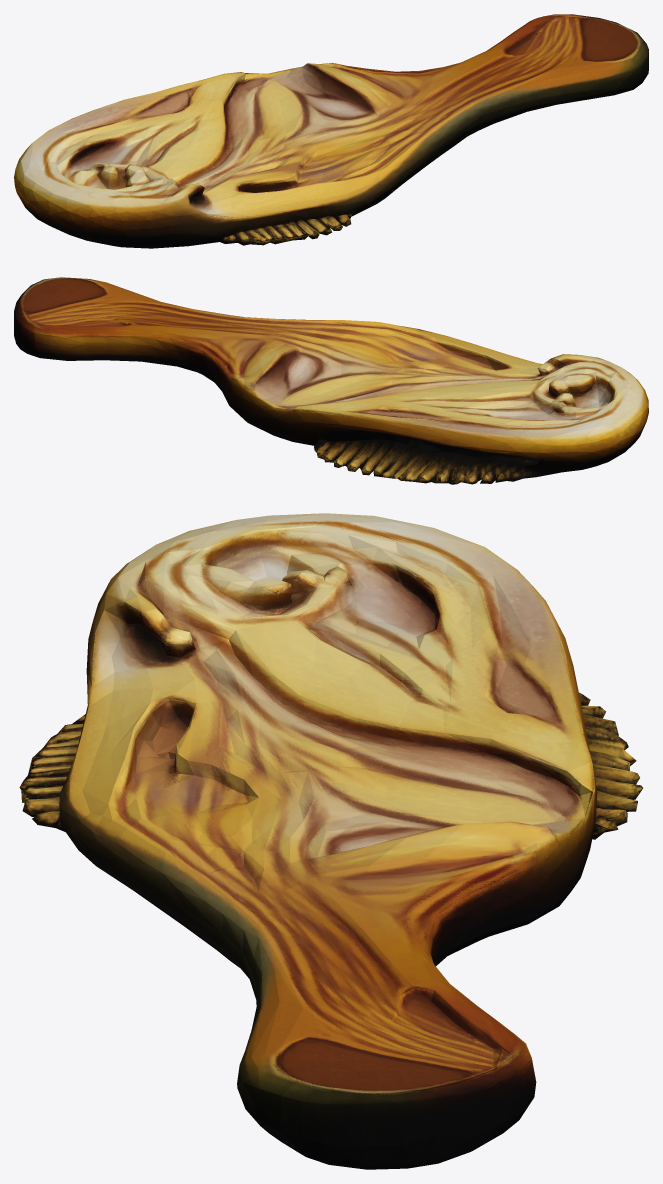
Rendered from wooden-hairbrush-dune.jpeg.glb.
The picture shows the model from 3 angles, top to bottom: view 1: azimuth 30°, elevation 25°; view 2: azimuth 150°, elevation 25°; view 3: azimuth 270°, elevation 25°; orthographic projection. The views are drawn at different scales.
Visible parts, largest first — view 1: world; view 2: world; view 3: world.
Part boxes in pixels (x1,y1,x2,y2): world: [14, 14, 648, 248]; world: [14, 277, 648, 484]; world: [19, 513, 642, 1169].
Bounding box in the file's own units: 1 × 0.0852 × 0.453.
1 material, 1 textured.
